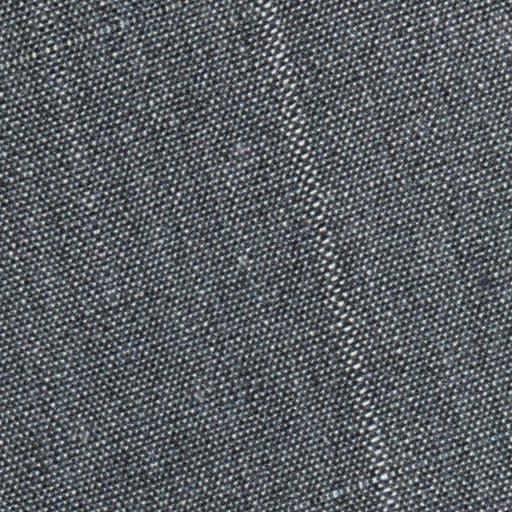slub: (240, 0, 404, 510)
